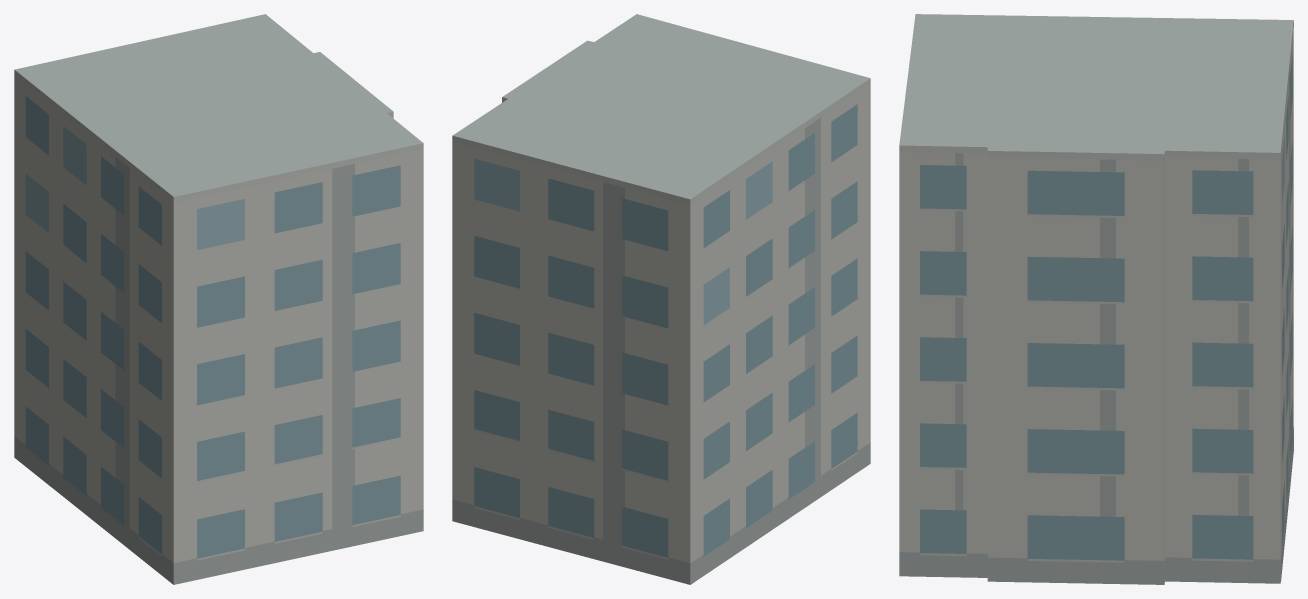
The model's file is survey-upis-32838142.glb.
The picture shows the model from 3 angles, left to right: view 1: azimuth 30°, elevation 25°; view 2: azimuth 150°, elevation 25°; view 3: azimuth 270°, elevation 25°; orthographic projection. The views are drawn at different scales.
Visible parts, largest first — view 1: survey-upis-32838142.tmp; view 2: survey-upis-32838142.tmp; view 3: survey-upis-32838142.tmp.
Part boxes in pixels (<box>): survey-upis-32838142.tmp: <box>14,14,423,584</box>; survey-upis-32838142.tmp: <box>452,14,870,584</box>; survey-upis-32838142.tmp: <box>899,14,1293,584</box>.
Bounding box in the file's own units: 11.17 × 16 × 13.29.
